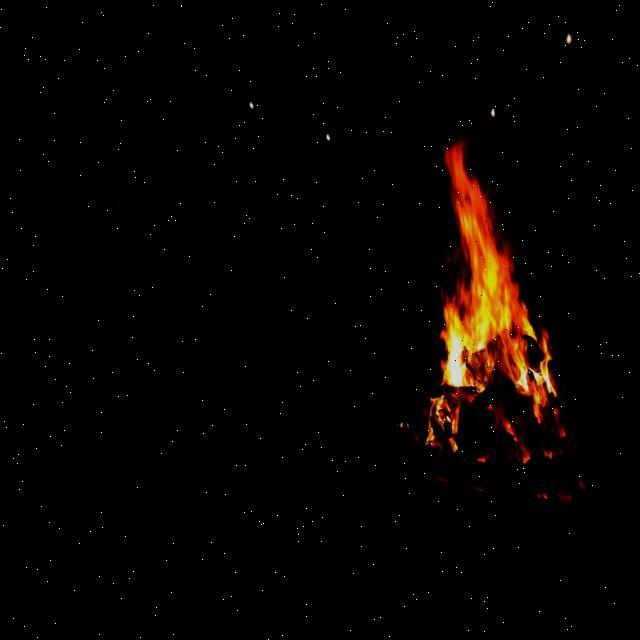Fire: (366, 133, 559, 476)
